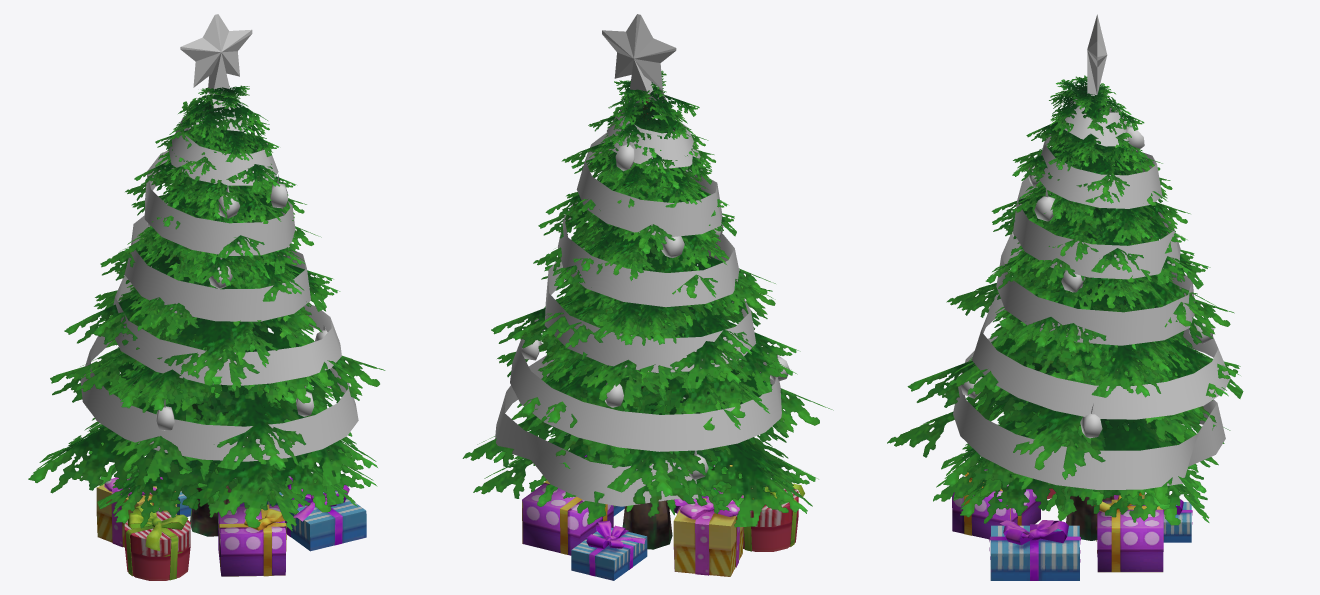
Rendered from furni_0200217.FBX.
3 views of the same model, side by side, from view 1: azimuth 30°, elevation 25°; view 2: azimuth 150°, elevation 25°; view 3: azimuth 270°, elevation 25° (orthographic). The views are drawn at different scales.
Visible parts, largest first — view 1: furni_0200217; view 2: furni_0200217; view 3: furni_0200217.
Boxes of the visible parts, x1,y1,x2,y2 form: furni_0200217: (28,14,385,580); furni_0200217: (462,14,833,580); furni_0200217: (887,14,1243,580).
Size of the model in its own units: 175 by 233 by 175.
